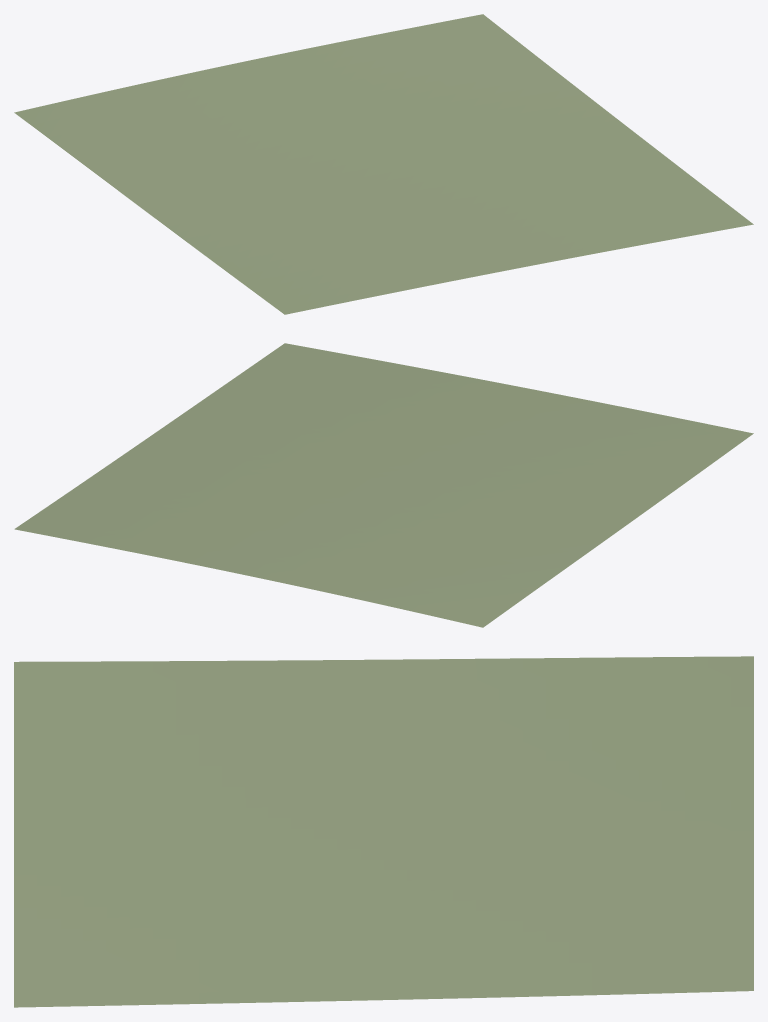
The model's file is desert-1-20.glb.
3 views of the same model, one above another, from view 1: azimuth 30°, elevation 25°; view 2: azimuth 150°, elevation 25°; view 3: azimuth 270°, elevation 25° (orthographic). The views are drawn at different scales.
Visible parts, largest first — view 1: desert-1-20; view 2: desert-1-20; view 3: desert-1-20.
Boxes of the visible parts, x1,y1,x2,y2 form: desert-1-20: [14, 14, 753, 314]; desert-1-20: [14, 343, 753, 627]; desert-1-20: [14, 656, 753, 1007].
Size of the model in its own units: 512 by 29.34 by 512.
